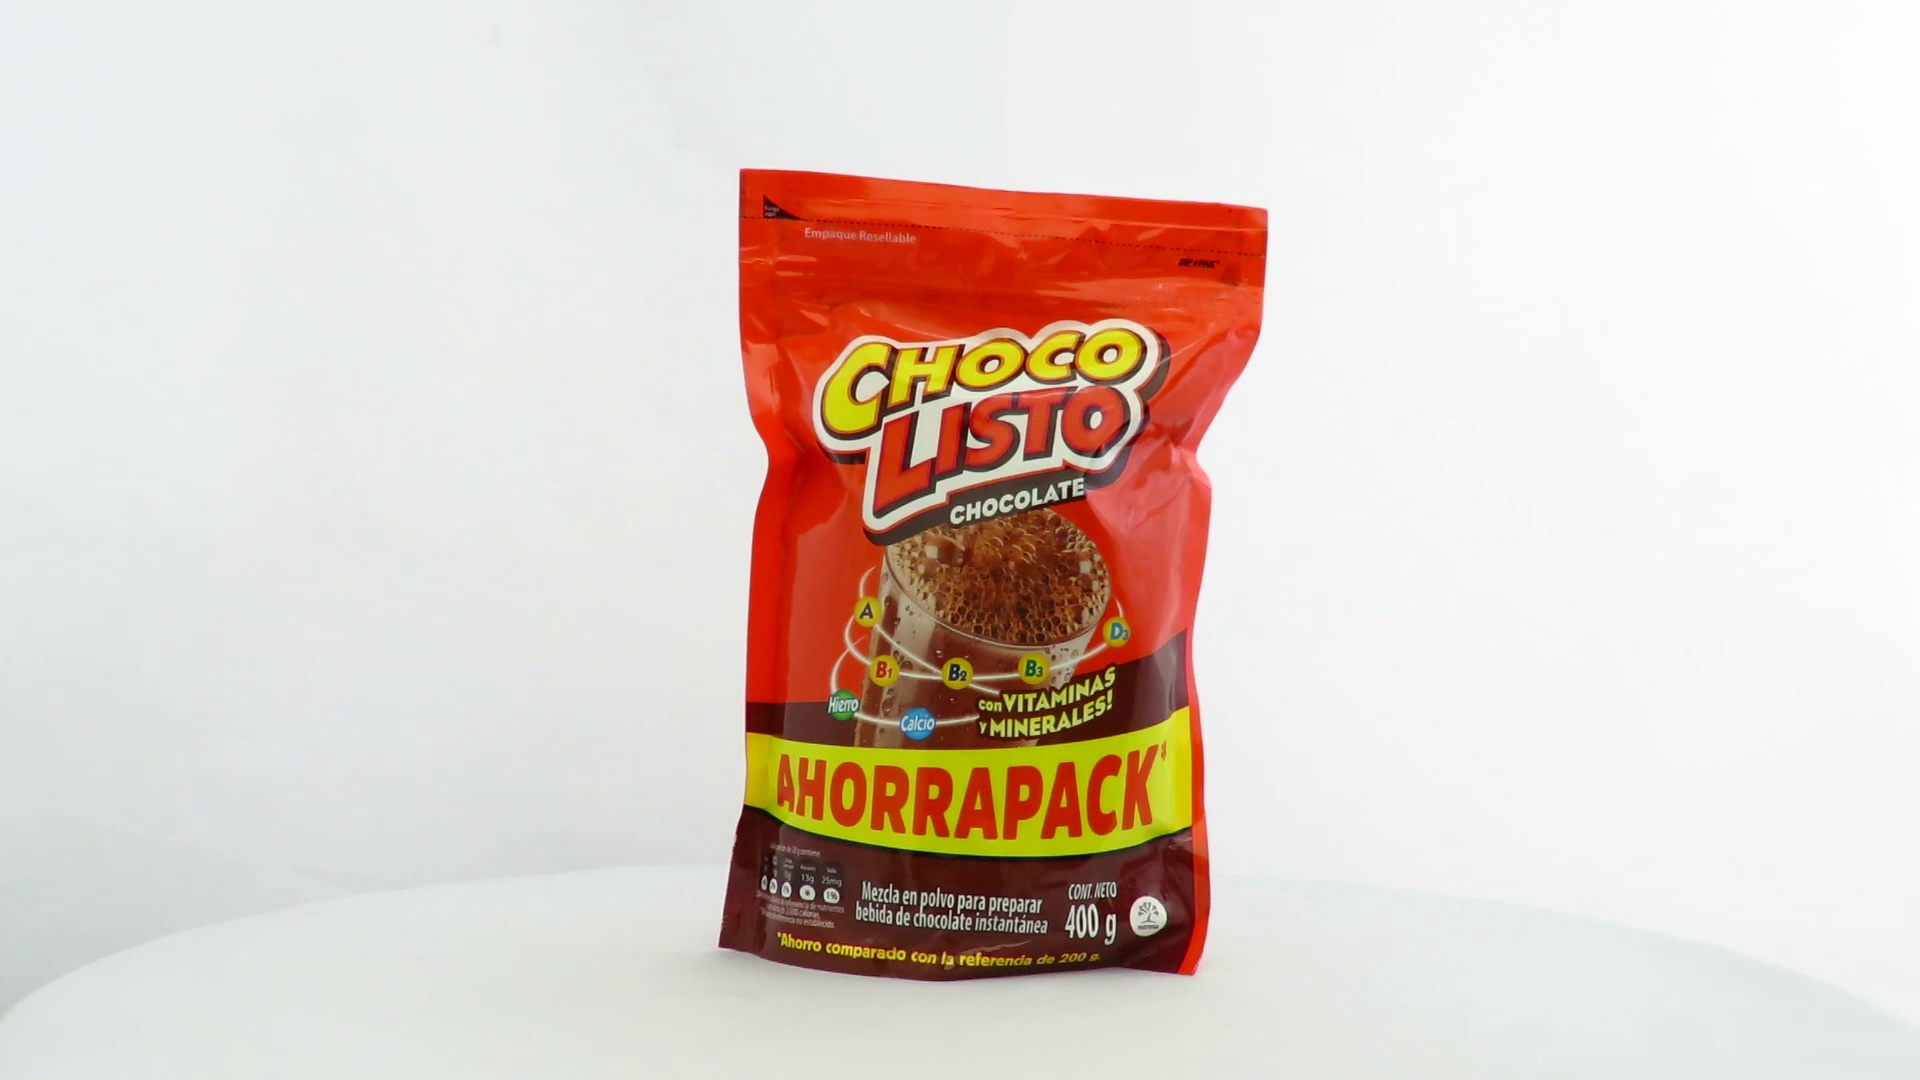COL0170103DYP40000: (713, 164, 1274, 988)
